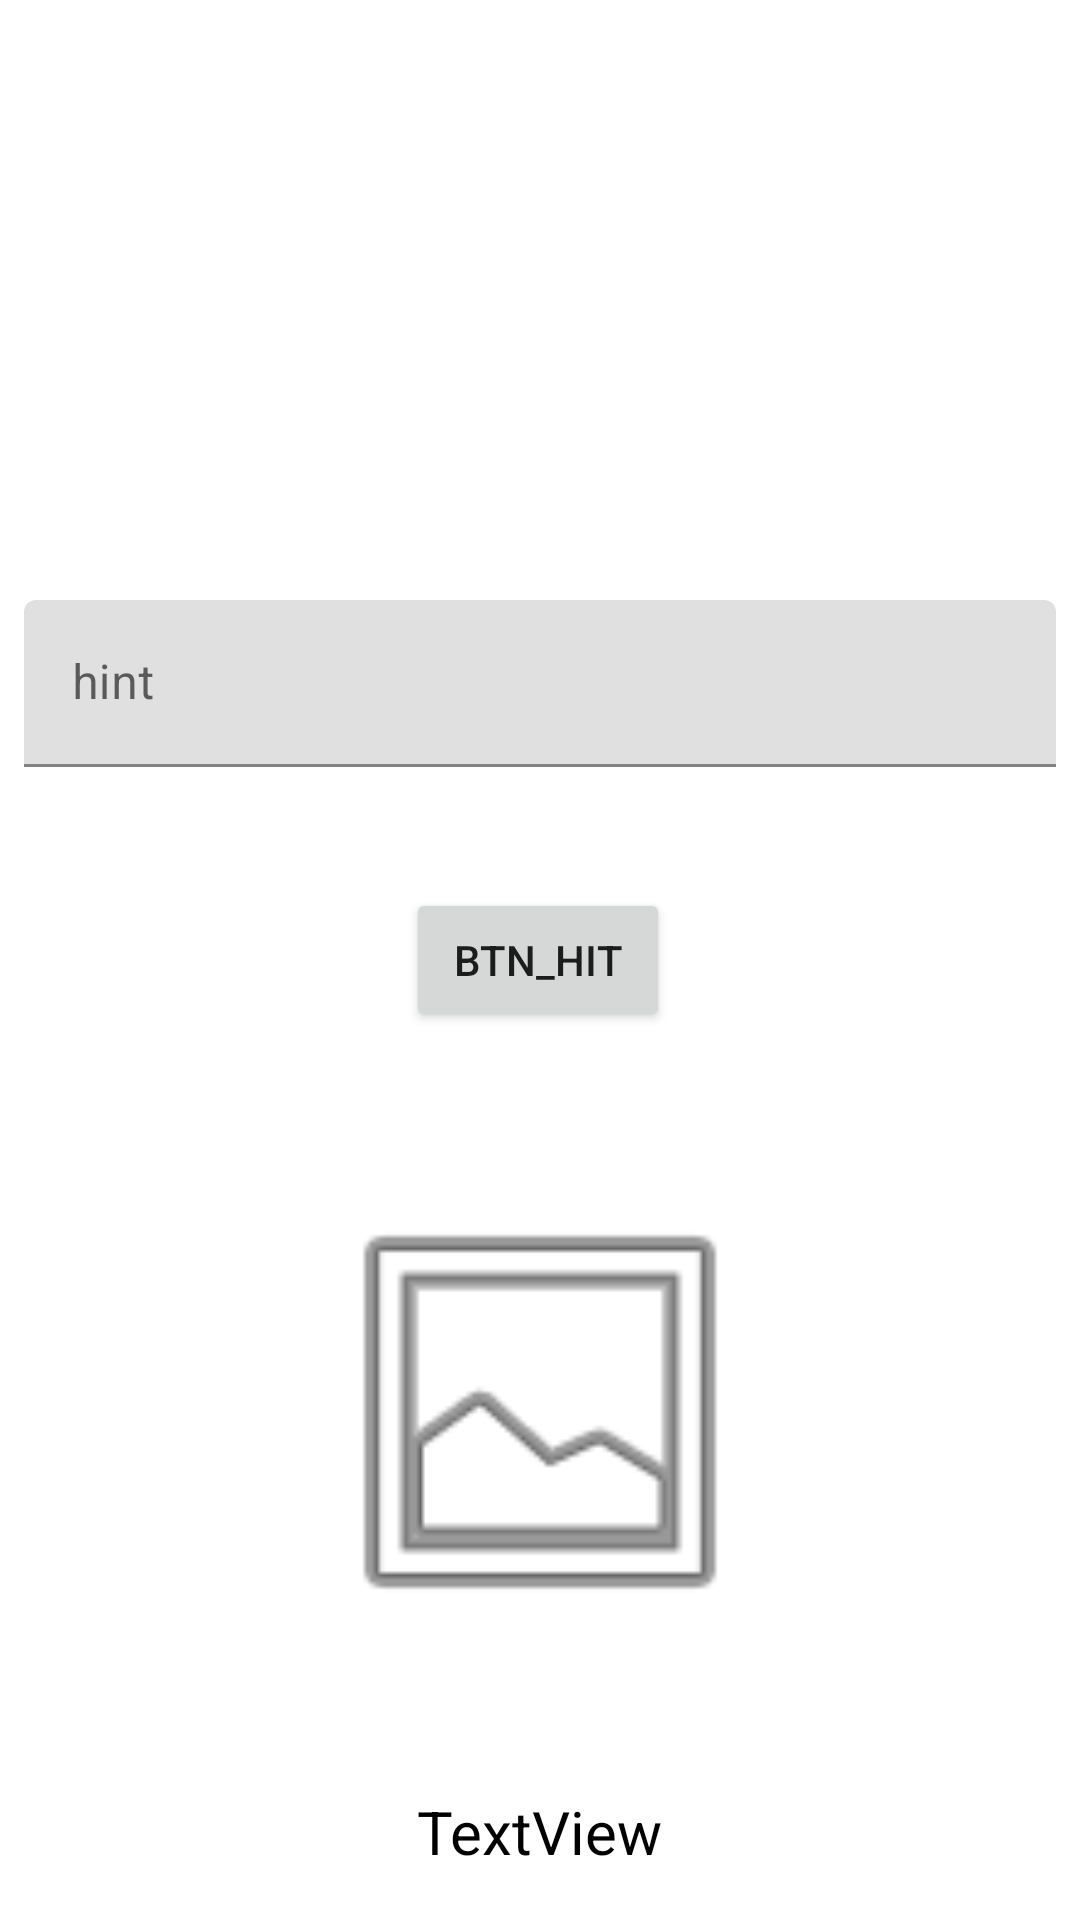

Icon click points for this 1080 x 1920 phone screenshot, format point (x, y):
gallery: point (540, 1412)
